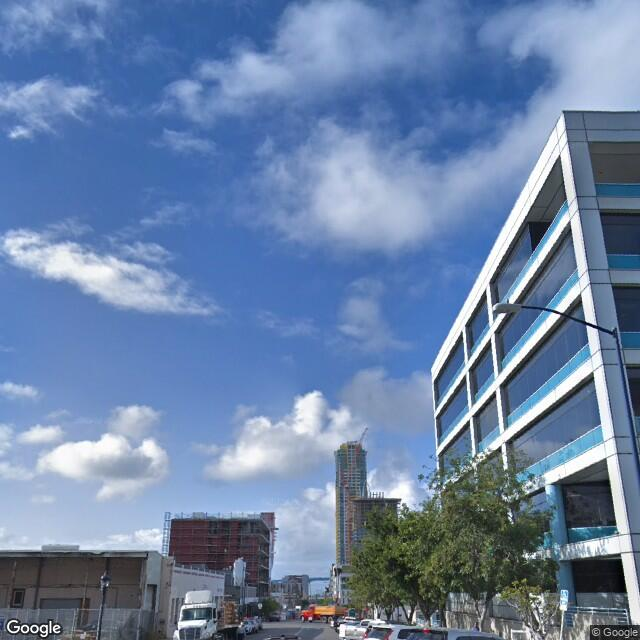light: (491, 299, 524, 315)
window: (559, 396, 598, 447), (565, 488, 607, 528)
